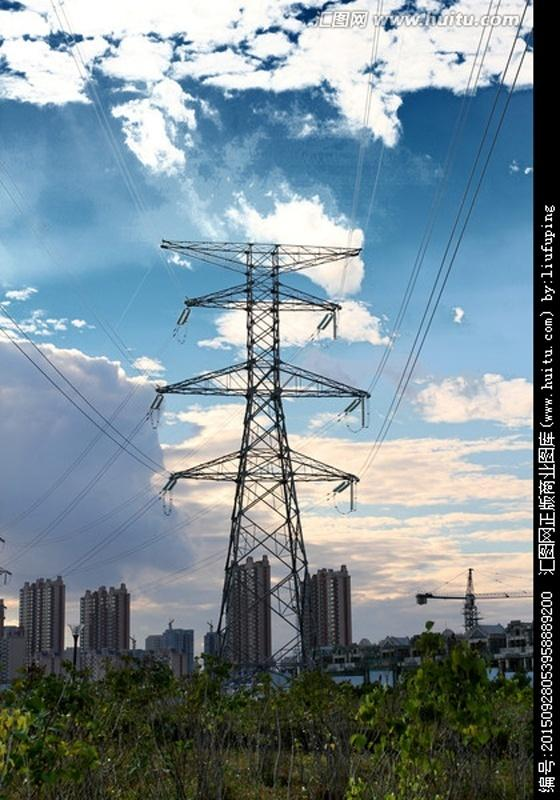power_tower: (148, 230, 365, 687)
